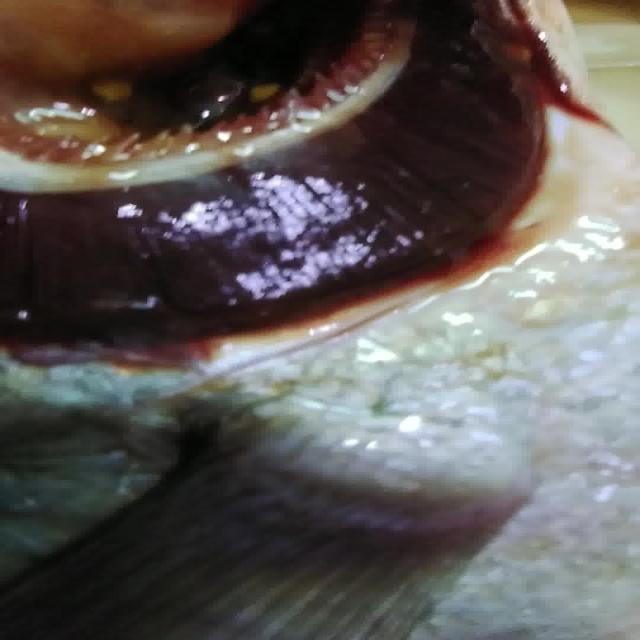Non-Fresh: (12, 8, 527, 366)
